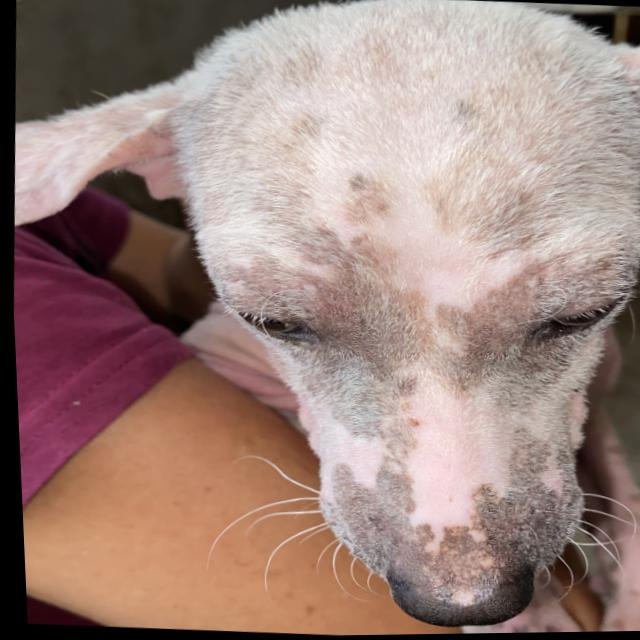demodicosis: (263, 144, 501, 308), (323, 366, 491, 511), (260, 43, 420, 143)
